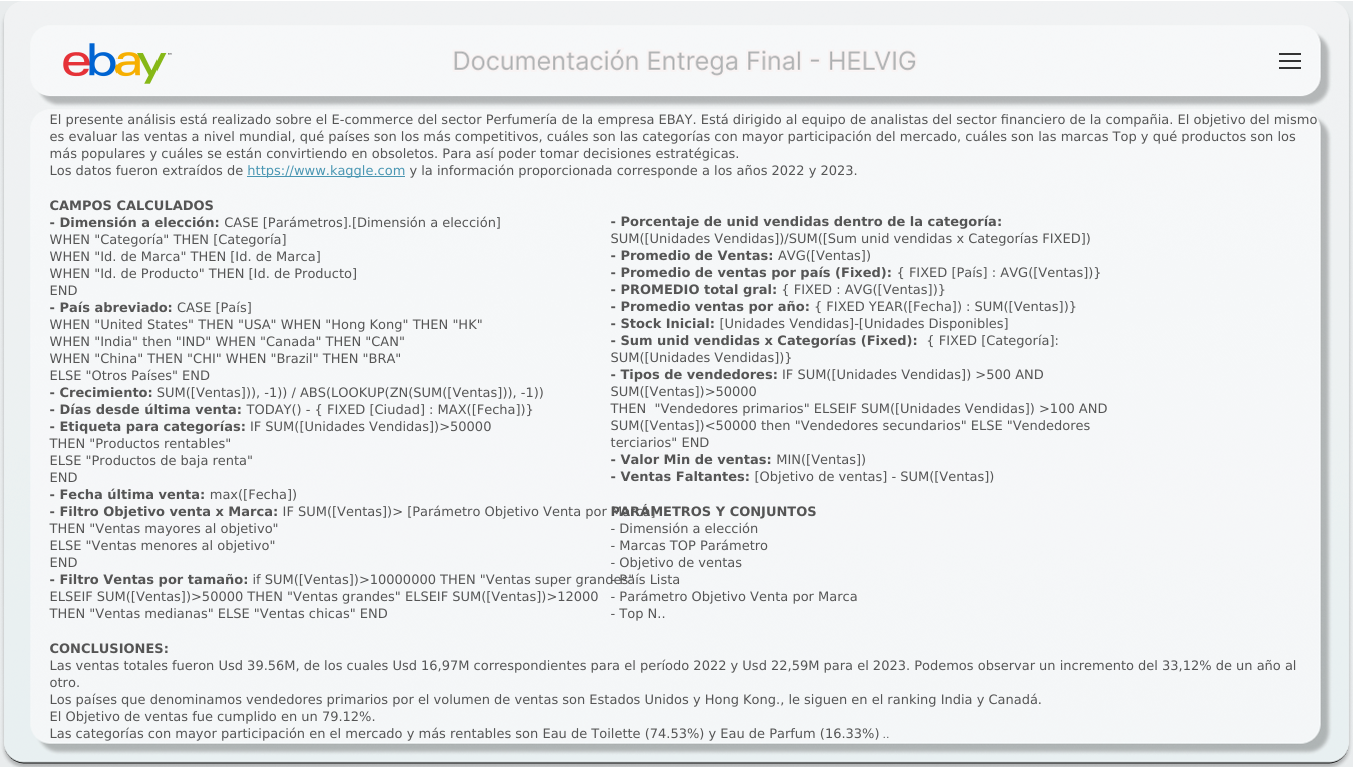

The dashboard page shown, as its layout file describes it:
{"tool":"tableau","page":{"name":"Documentación","canvas":[1366,768],"ordinal":4},"visuals":[{"type":"dashboard-object","box":[1161,33,112,27]},{"type":"image","param":"Image/logo ebay 1.png","box":[58,38,119,81]},{"type":"dashboard-object","box":[1278,49,24,24]},{"type":"dashboard-object","box":[1161,60,112,27]},{"type":"text","box":[47,108,1259,658]},{"type":"text","box":[602,226,534,404]}]}

Visuals, with their boxes in screenshot pixels (x1, y1, x2, y2), scaled from the page's 1366x768 canvas onto the 1365x767 screenshot:
dashboard-object: (1160,33,1272,60)
image: (58,38,177,119)
dashboard-object: (1277,49,1301,73)
dashboard-object: (1160,60,1272,87)
text: (47,108,1305,765)
text: (602,226,1135,629)
